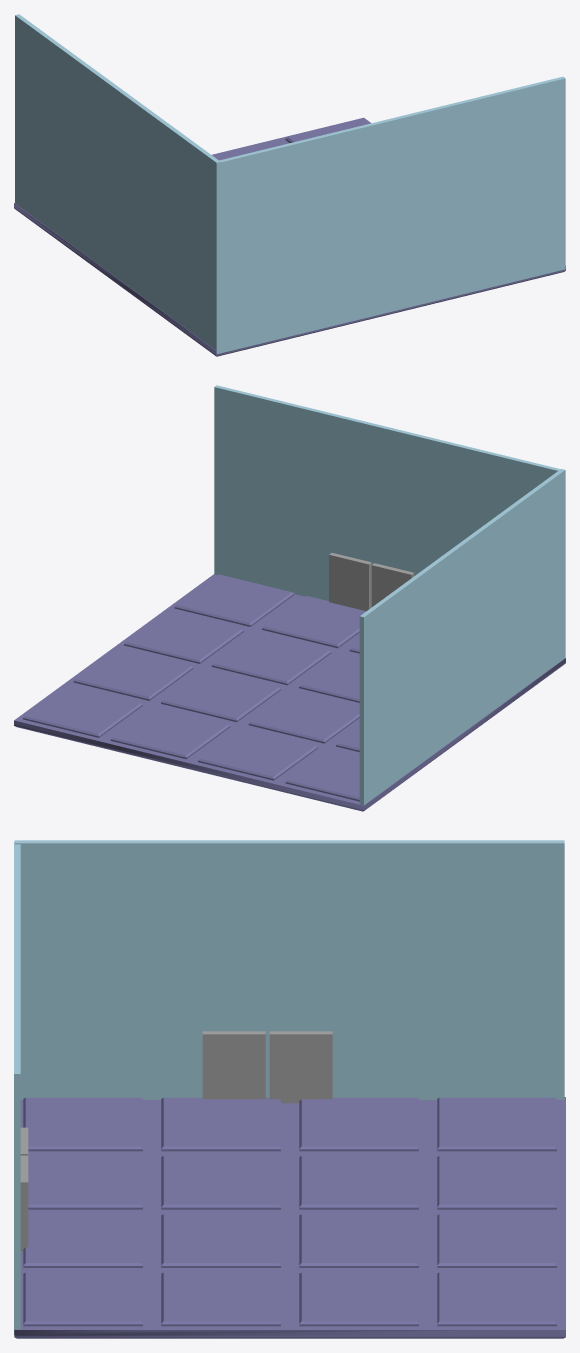
Rendered from Escenario.fbx.
3 views of the same model, one above another, from view 1: azimuth 30°, elevation 25°; view 2: azimuth 150°, elevation 25°; view 3: azimuth 270°, elevation 25° (orthographic). The views are drawn at different scales.
Parts seen in each view (by area): view 1: puzzles:pCube4; view 2: puzzles:pCube4; view 3: puzzles:pCube4.
Boxes of the visible parts, bbox=[...] form: puzzles:pCube4: bbox=[14, 14, 565, 356]; puzzles:pCube4: bbox=[14, 385, 565, 811]; puzzles:pCube4: bbox=[14, 840, 565, 1338].
Size of the model in its own units: 23.07 by 12.28 by 23.08.
